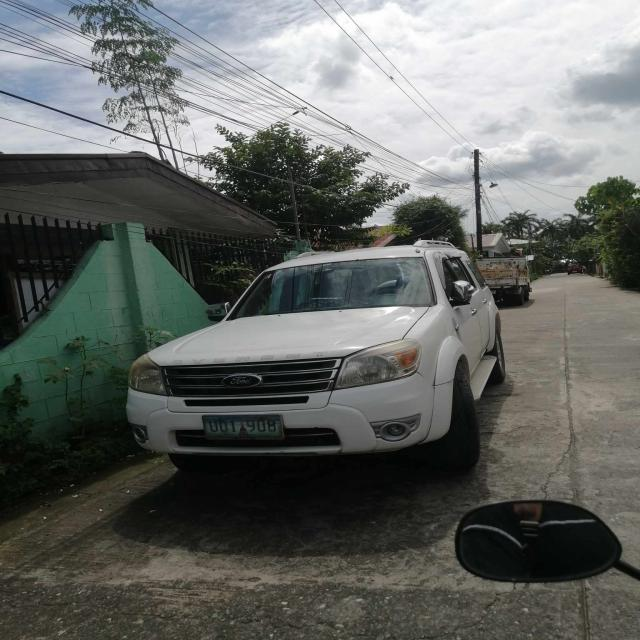license-plate: (201, 414, 287, 441)
